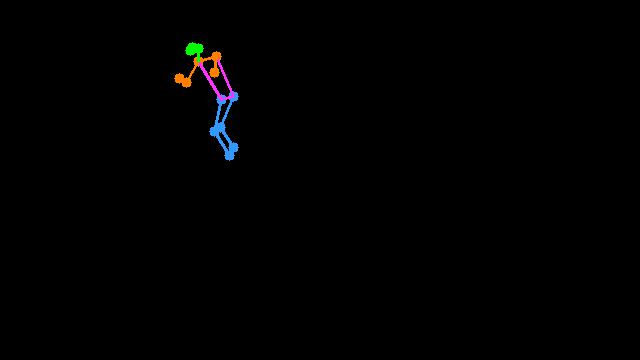normal: (154, 24, 267, 170)
